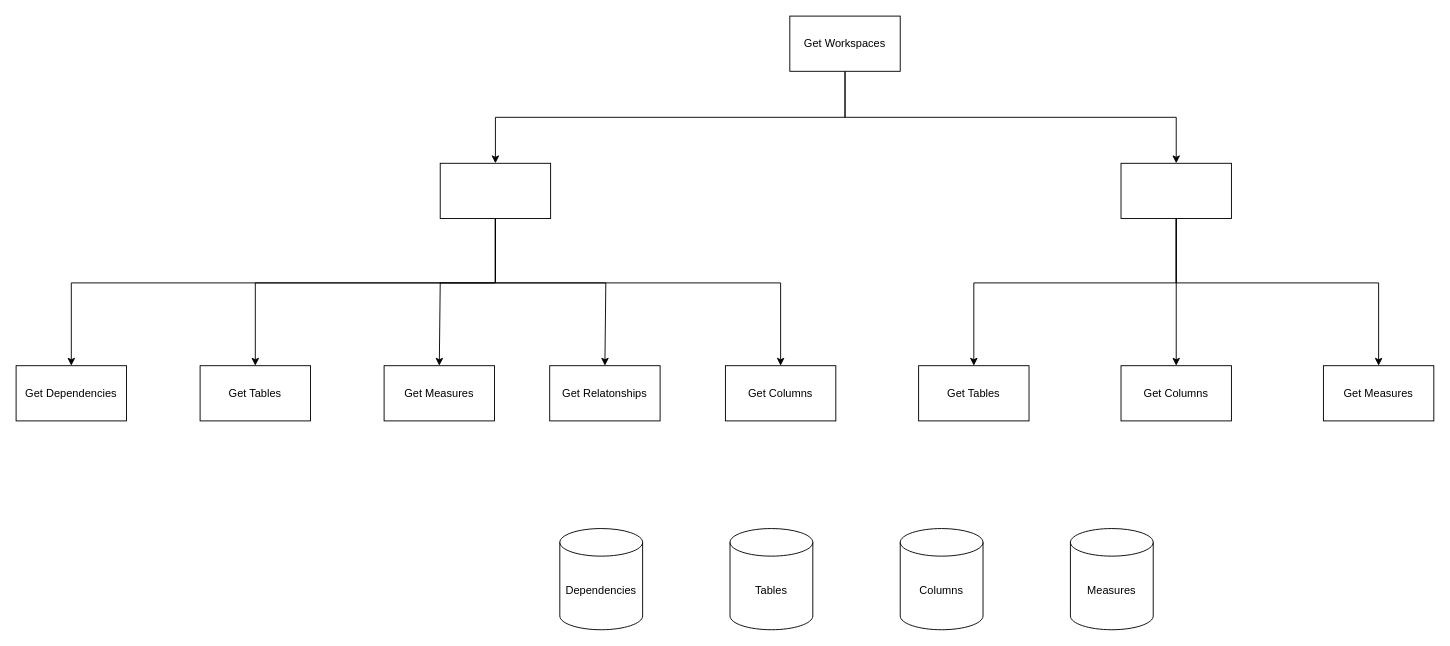
Image size: 1450x646. Some labels were removed from this diagram. The centre of each missing label's shape, as x and y in pixels:
Get Datasets: the point at 495,190
Get Reports: the point at 1175,190
